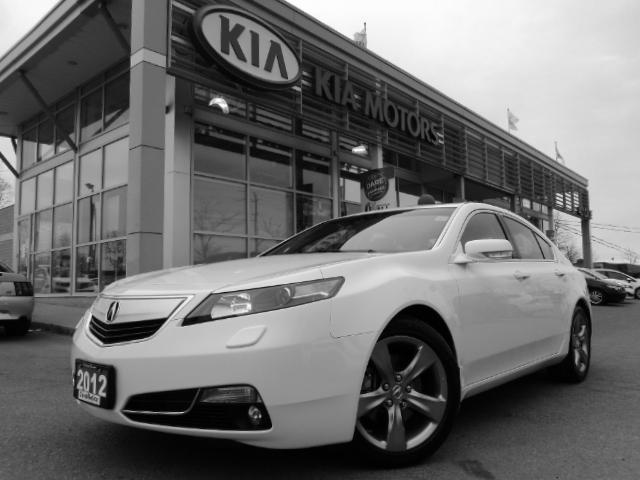car: (71, 192, 594, 465)
